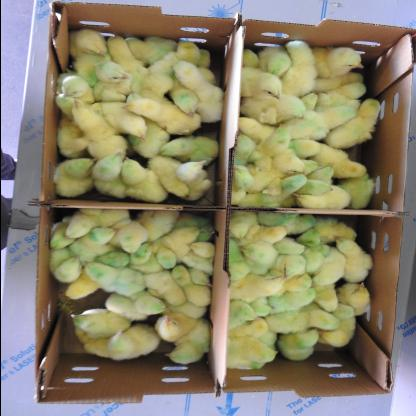Chicken: (72, 312, 128, 358), (82, 258, 144, 294), (166, 324, 208, 364), (71, 210, 135, 236), (111, 327, 159, 359), (104, 293, 168, 317), (74, 227, 116, 261), (174, 267, 208, 307), (152, 316, 196, 344), (167, 226, 202, 261), (50, 248, 82, 282), (146, 272, 182, 302), (115, 221, 148, 253), (142, 211, 178, 240), (67, 280, 100, 304), (100, 243, 128, 268), (52, 218, 67, 260), (134, 244, 156, 271), (154, 242, 176, 266), (171, 302, 200, 318), (190, 241, 215, 257), (189, 270, 209, 286)
box: (31, 6, 413, 410)
